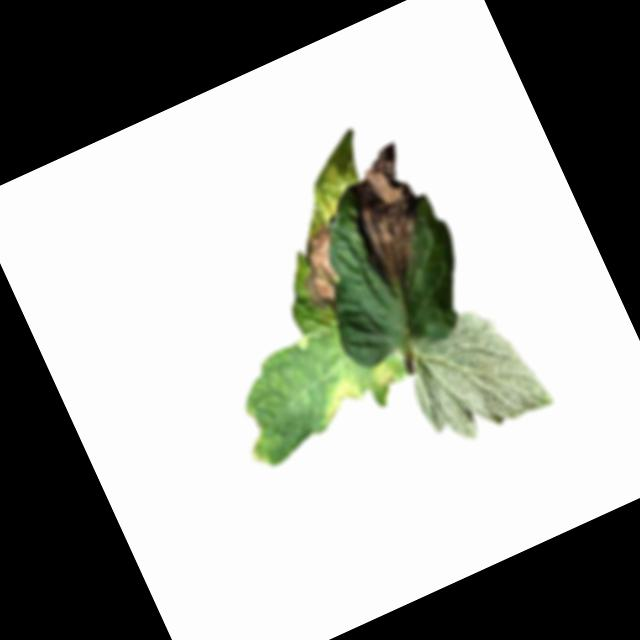Late_blight: (325, 140, 453, 298), (283, 223, 364, 318), (310, 364, 372, 422), (366, 354, 404, 394), (242, 436, 273, 474)
healthy: (390, 290, 558, 456)
